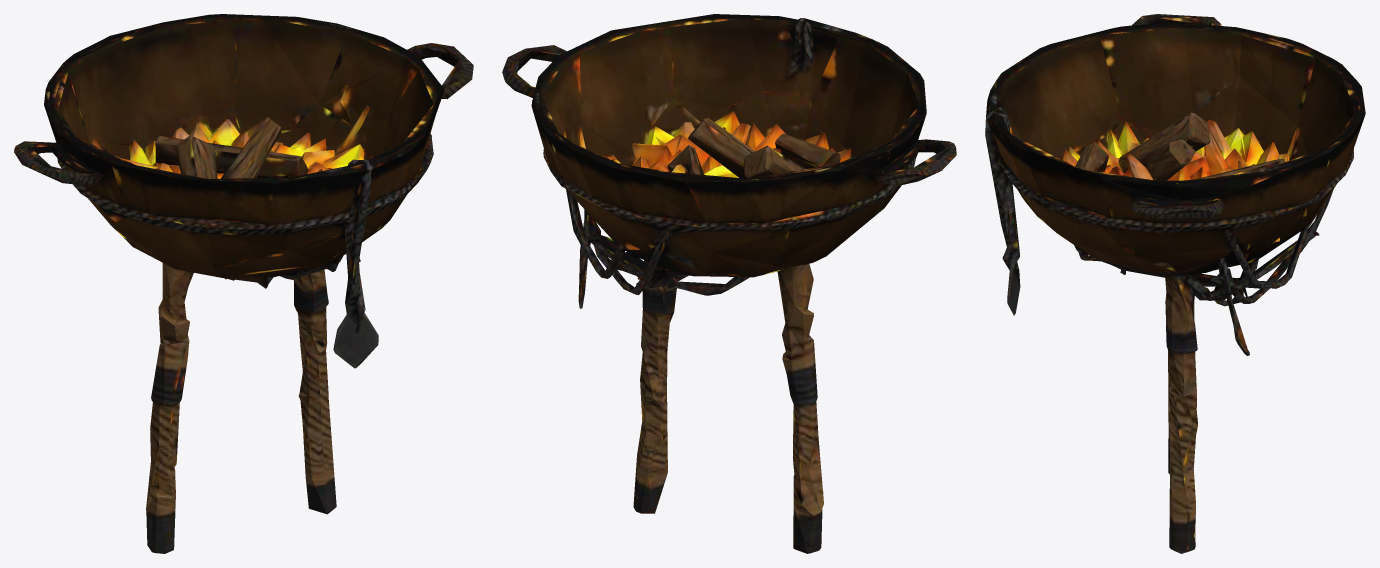
Rendered from ogre_brazier_01.glb.
3 renders of one model, left to right at view 1: azimuth 30°, elevation 25°; view 2: azimuth 150°, elevation 25°; view 3: azimuth 270°, elevation 25°, orthographic. The views are drawn at different scales.
Visible parts, largest first — view 1: geometry_0; view 2: geometry_0; view 3: geometry_0.
Boxes of the visible parts, left/top/right/bottom form: geometry_0: left=14, top=14, right=473, bottom=553; geometry_0: left=502, top=14, right=956, bottom=553; geometry_0: left=985, top=14, right=1365, bottom=553.
Size of the model in its own units: 0.9941 by 0.9507 by 0.7961.
Materials: 1 (1 with a texture image).
